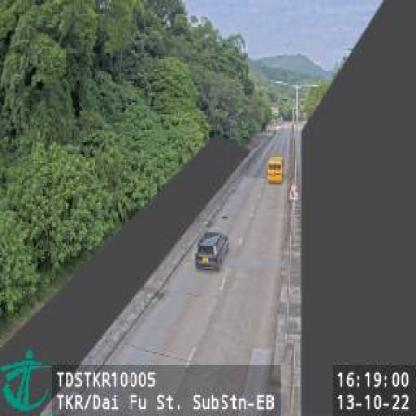Car: (195, 229, 228, 270), (266, 154, 284, 184)
